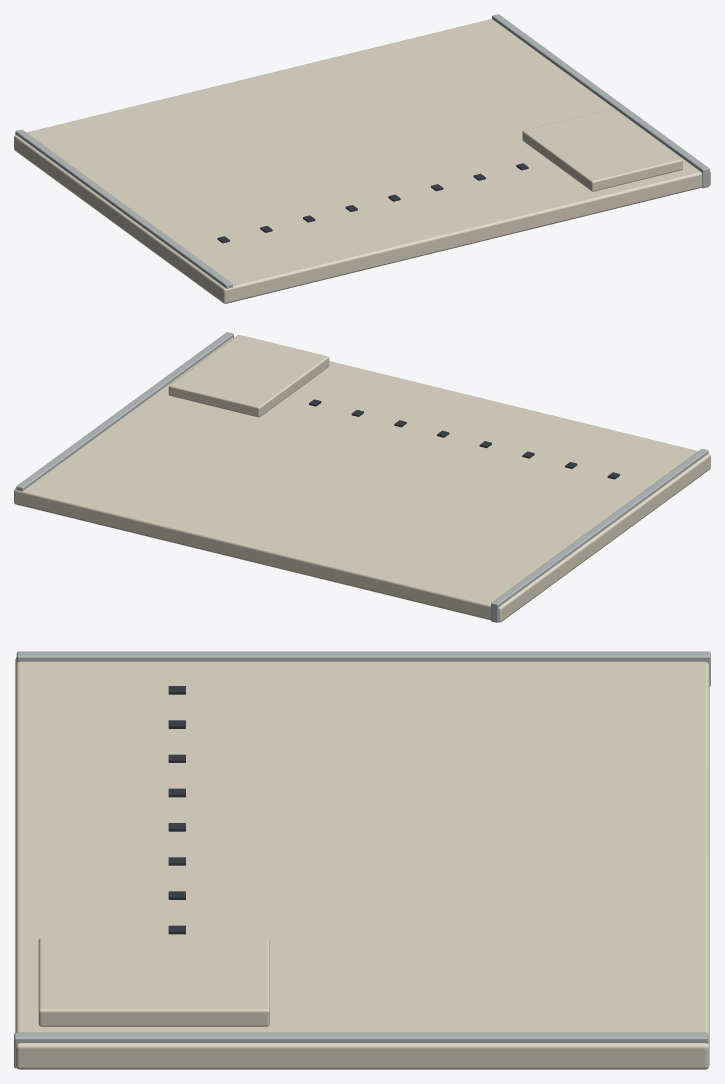
File: abandoned-cinema-and-projection-booth-abandoned-cinema-42e00aac__29733.glb
3 renders of one model, top to bottom at view 1: azimuth 30°, elevation 25°; view 2: azimuth 150°, elevation 25°; view 3: azimuth 270°, elevation 25°, orthographic. The views are drawn at different scales.
Visible parts, largest first — view 1: abandoned-cinema-and-projection-booth-fallen-ceiling-panel; view 2: abandoned-cinema-and-projection-booth-fallen-ceiling-panel; view 3: abandoned-cinema-and-projection-booth-fallen-ceiling-panel.
Part boxes in pixels (left/top/right/bottom): abandoned-cinema-and-projection-booth-fallen-ceiling-panel: left=14, top=14, right=710, bottom=303; abandoned-cinema-and-projection-booth-fallen-ceiling-panel: left=14, top=332, right=710, bottom=622; abandoned-cinema-and-projection-booth-fallen-ceiling-panel: left=14, top=651, right=710, bottom=1069.
Bounding box in the file's own units: 0.8 × 0.042 × 0.6024.
